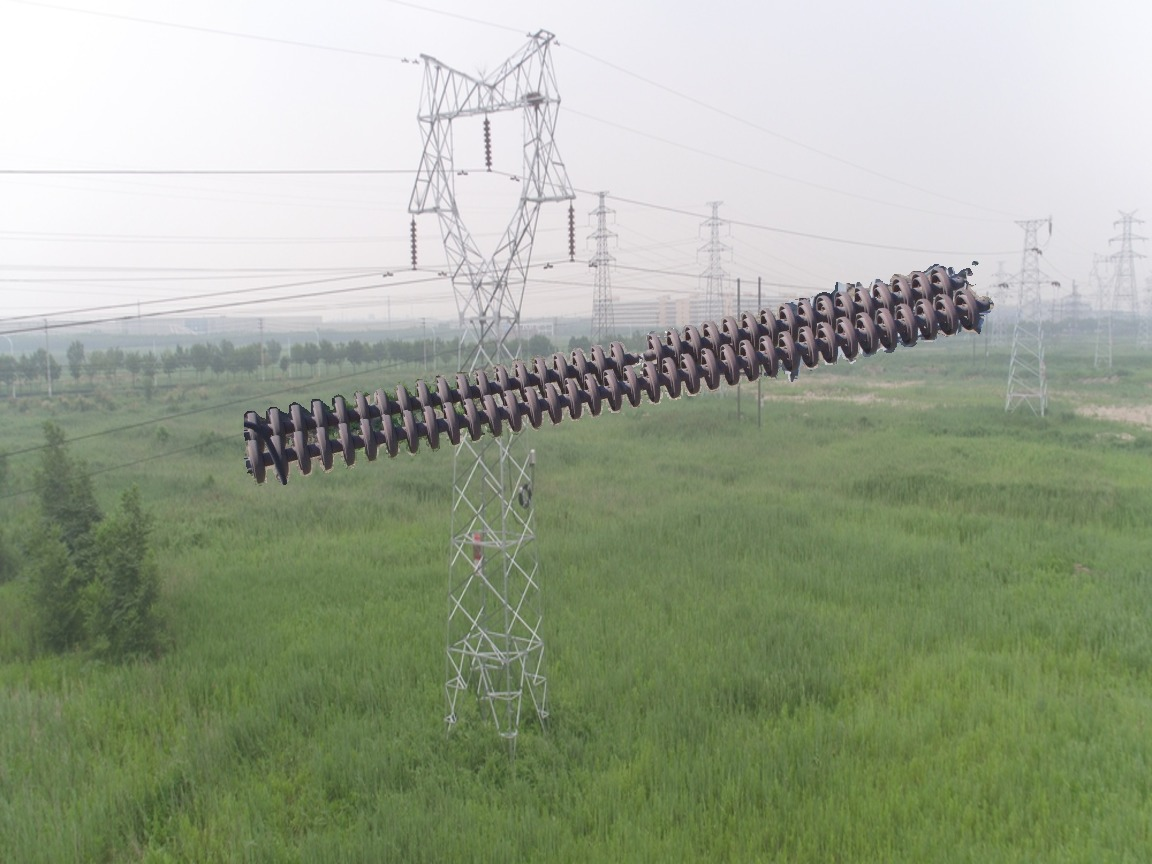defect: (603, 331, 668, 369)
